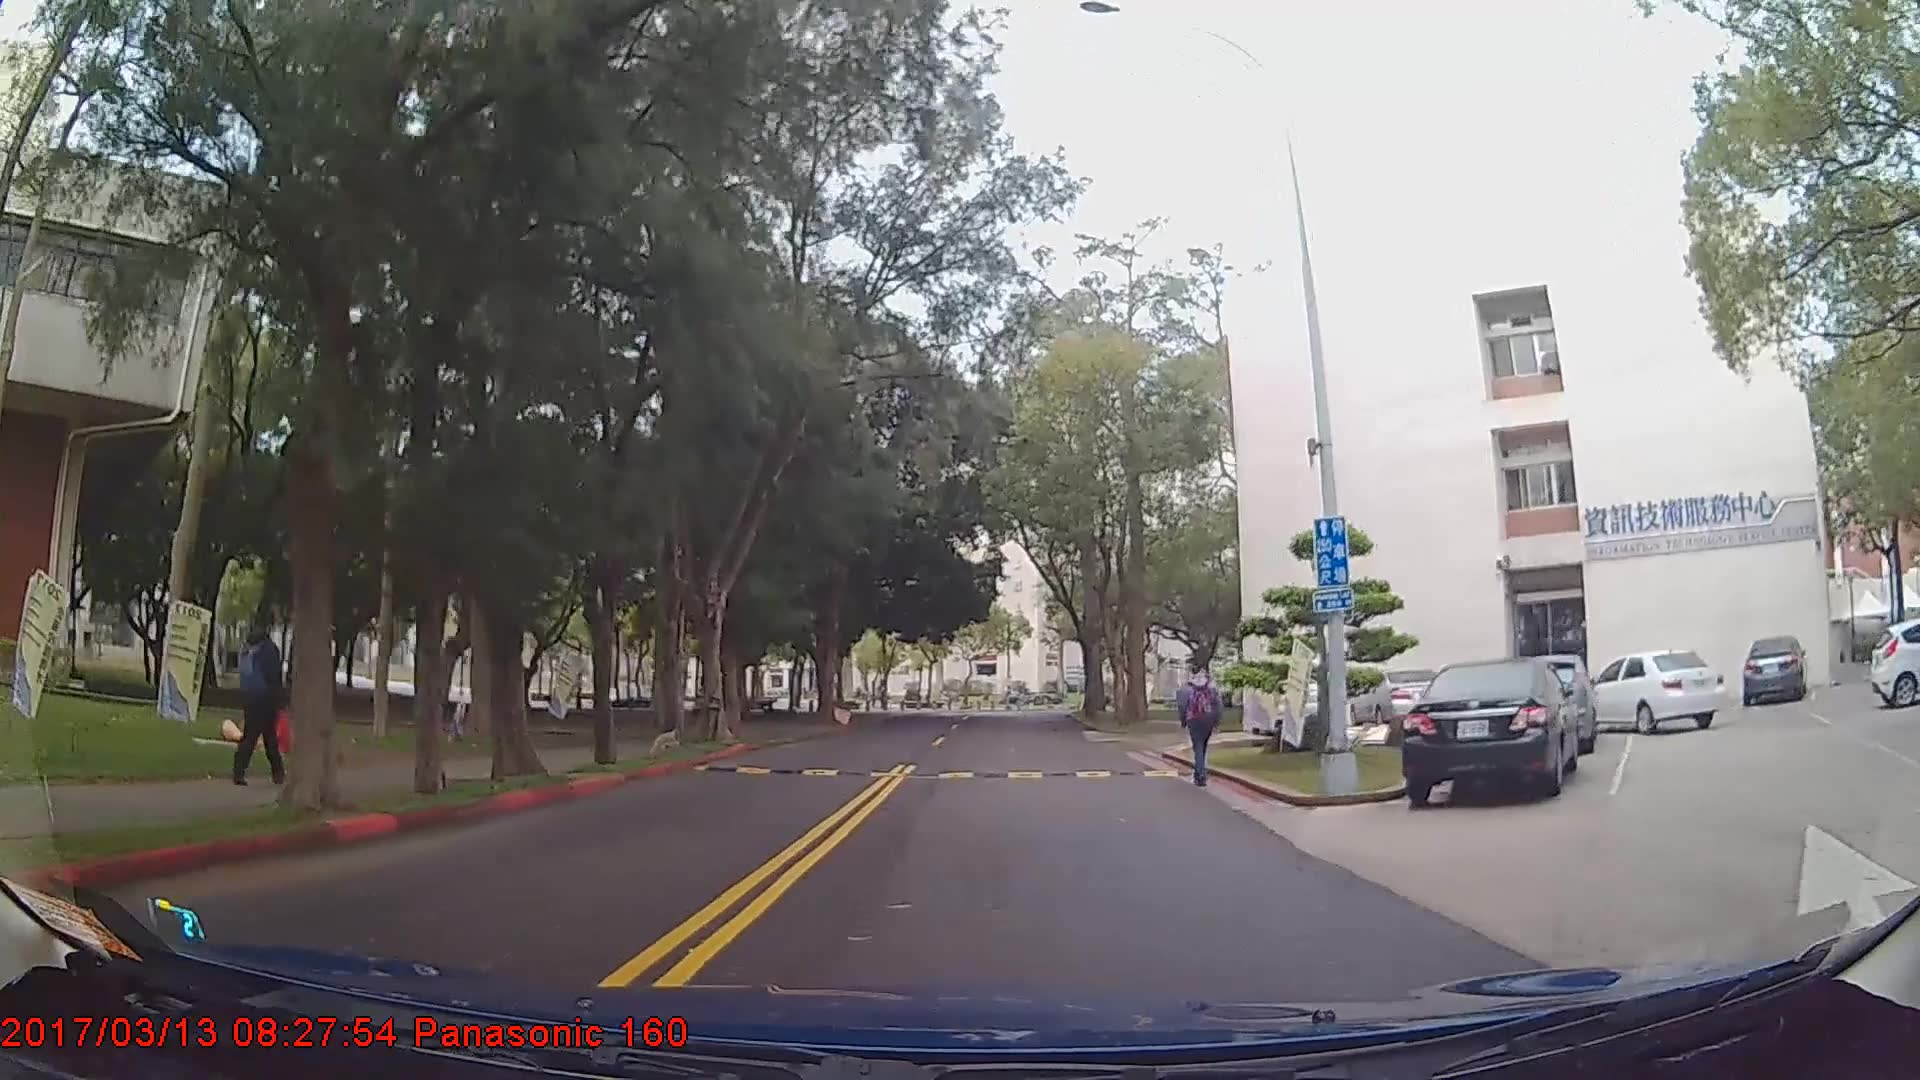pedestrian: (229, 607, 292, 791), (1174, 658, 1228, 789)
vehicle: (1401, 656, 1581, 810), (1584, 649, 1725, 736), (1349, 668, 1443, 727), (1868, 619, 1920, 711), (1741, 634, 1803, 709)
